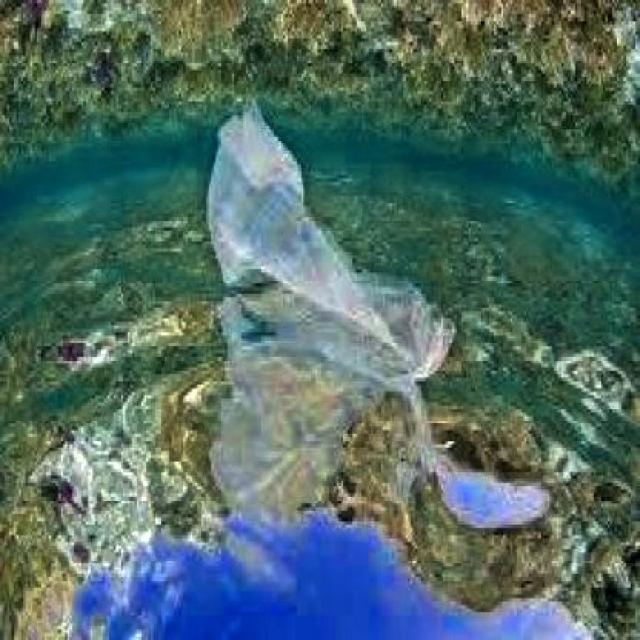pbag: (205, 95, 457, 392)
